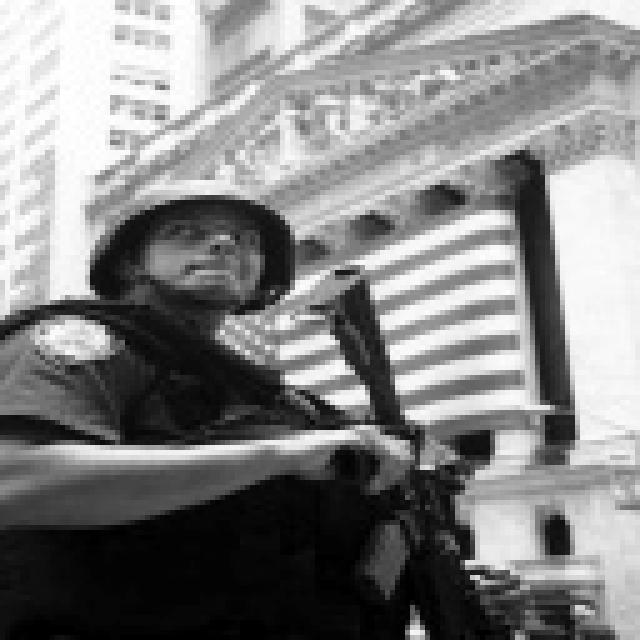Rifle: (291, 247, 536, 637)
